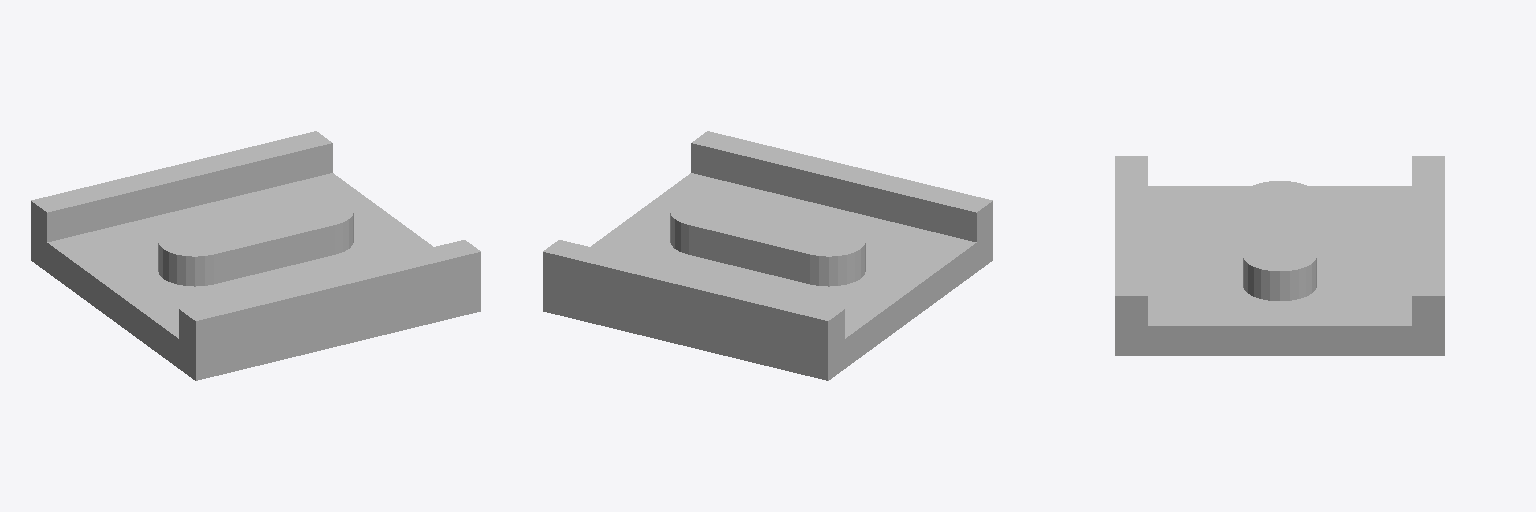
File: mobstacle.obj
3 views of the same model, side by side, from view 1: azimuth 30°, elevation 25°; view 2: azimuth 150°, elevation 25°; view 3: azimuth 270°, elevation 25° (orthographic).
Parts seen in each view (by area): view 1: mobstacle; view 2: mobstacle; view 3: mobstacle.
Boxes of the visible parts, box(x1,y1,x2,y2) form: mobstacle: box(31, 131, 480, 380); mobstacle: box(543, 131, 992, 380); mobstacle: box(1115, 156, 1444, 355).
Bounding box in the file's own units: 10 × 2 × 10.